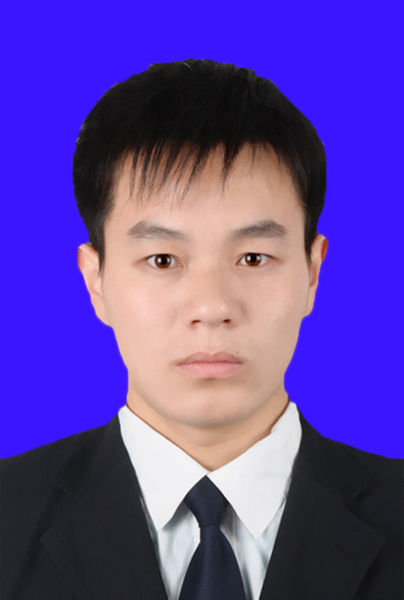unmask: (103, 168, 307, 420)
